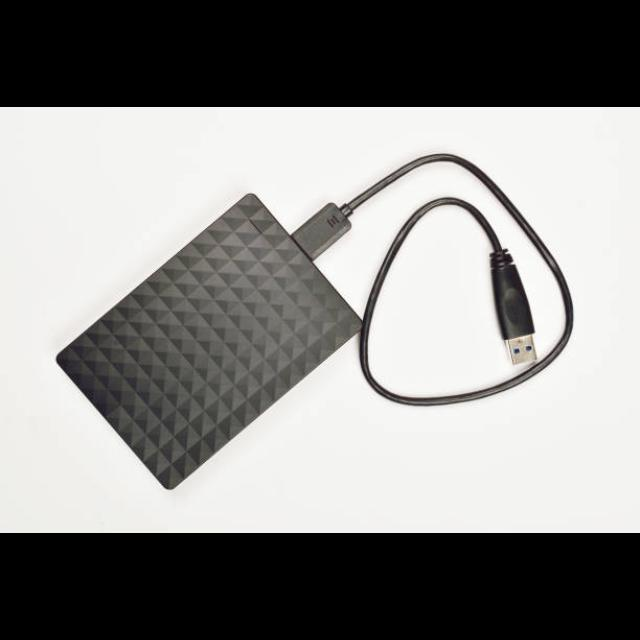HDD: (53, 193, 363, 493)
